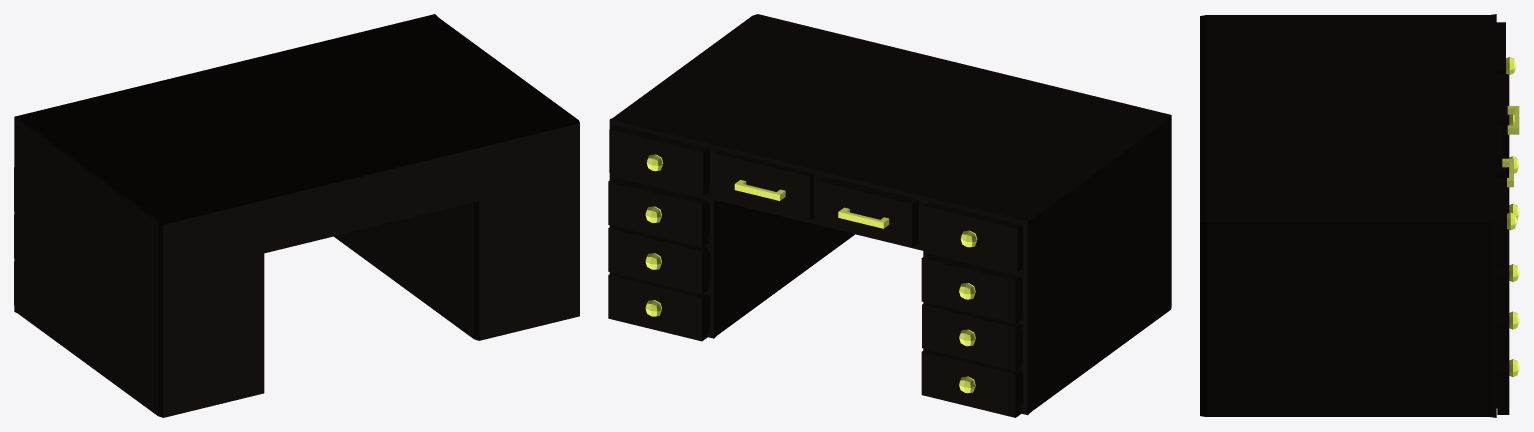
File: Desk 5.fbx
3 views of the same model, side by side, from view 1: azimuth 30°, elevation 25°; view 2: azimuth 150°, elevation 25°; view 3: azimuth 270°, elevation 25° (orthographic).
Visible parts, largest first — view 1: 4; view 2: 4, Node 3, Node 2, Node 9, Node 0, Node 1, Node 7, Node 4, Node 6, Node 5, Node 8; view 3: 4, Node 0, Node 9, Node 2, Node 4, Node 6, Node 1, Node 8.
Part boxes in pixels (bbox=[...]): 4: bbox=[14, 14, 579, 417]; 4: bbox=[609, 14, 1171, 415]; Node 3: bbox=[921, 254, 1022, 324]; Node 2: bbox=[608, 177, 709, 247]; Node 9: bbox=[818, 176, 918, 246]; Node 0: bbox=[609, 125, 709, 195]; Node 1: bbox=[923, 202, 1022, 271]; Node 7: bbox=[921, 349, 1023, 417]; Node 4: bbox=[608, 226, 710, 294]; Node 6: bbox=[608, 272, 709, 341]; Node 5: bbox=[922, 302, 1022, 370]; Node 8: bbox=[716, 151, 813, 219]; 4: bbox=[1200, 14, 1496, 417]; Node 0: bbox=[1496, 177, 1517, 268]; Node 9: bbox=[1496, 74, 1519, 158]; Node 2: bbox=[1496, 229, 1519, 319]; Node 4: bbox=[1496, 311, 1519, 367]; Node 6: bbox=[1496, 359, 1519, 414]; Node 1: bbox=[1496, 22, 1516, 74]; Node 8: bbox=[1496, 126, 1513, 187].
Size of the model in its own units: 1.14 by 0.7758 by 1.75.
